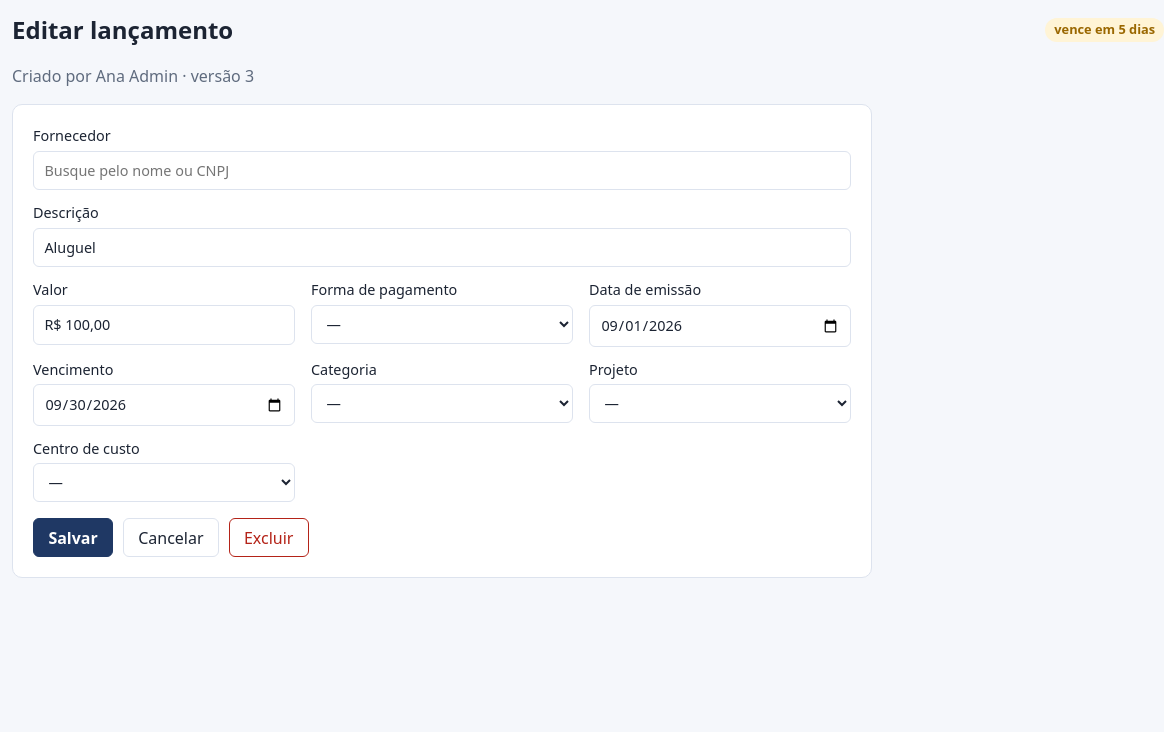
Scenario: LancamentoFormPage › edição envia If-Match e trata conflito de versão (412)
The image size is (1164, 732).
expect the field showing "Aluguel" is shown: met, box [33,228,851,267]
What coordinates should you click on to do the following:
click the button "Salvar"
I would click on:
 (73, 538)
Its box is [33,518,113,557].
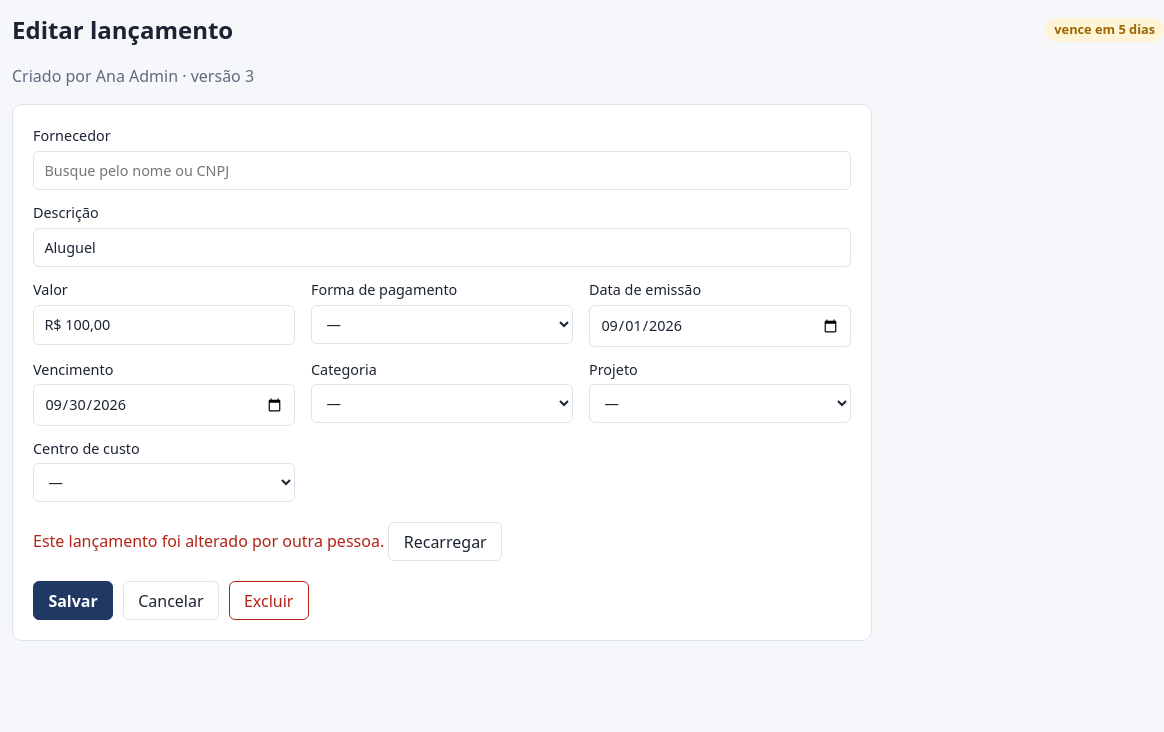
expect the message shows "alterado por outra pessoa": met, box [33,531,384,553]
expect the button "Recarregar" is shown: met, box [388,522,502,561]
